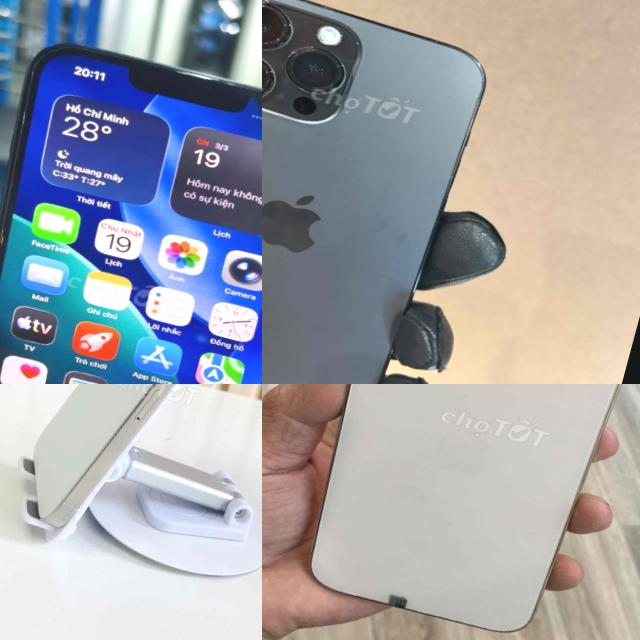gen_12_13: (0, 27, 262, 384), (280, 384, 640, 640)
gen_14: (262, 0, 514, 384)
gen_15: (0, 384, 262, 568)
